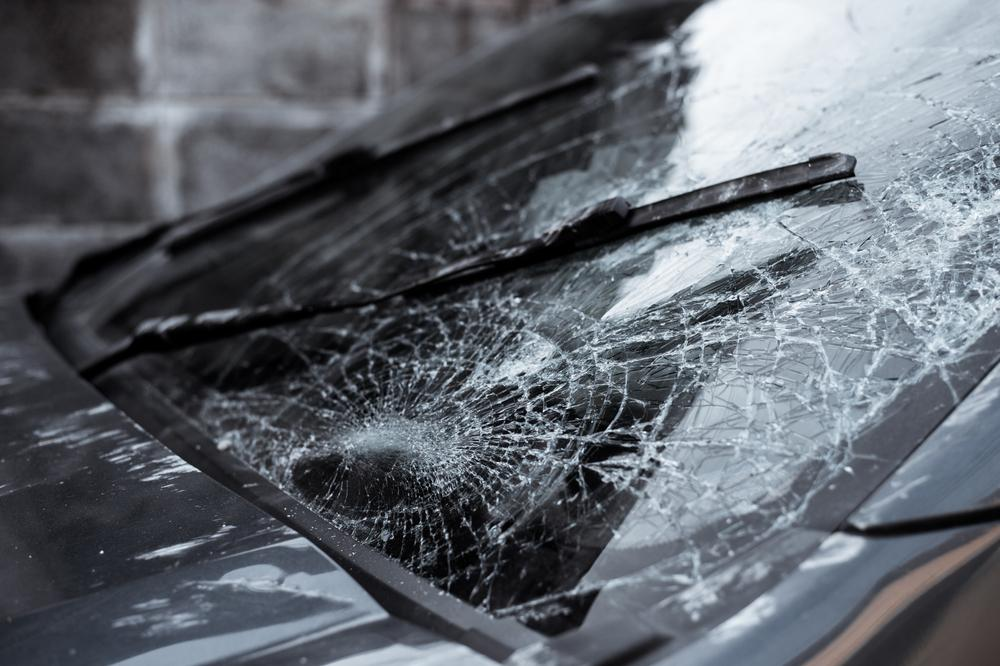glass shatter: (90, 9, 1000, 666)
